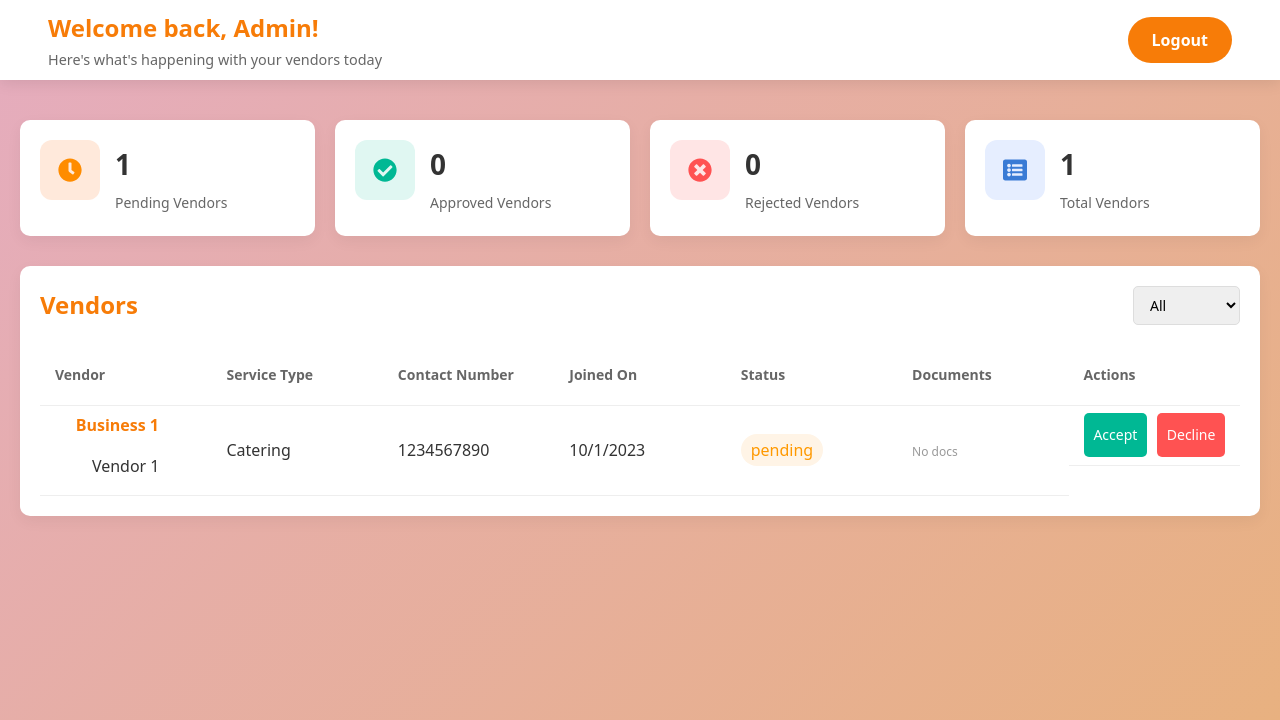
AdminDashboard › handles reject action
The width and height of the screenshot is (1280, 720).
expect the text "pending" is shown: met, box [741,434,823,466]
Click the button "Decline" at [1191, 435], box [1157,413,1225,457]
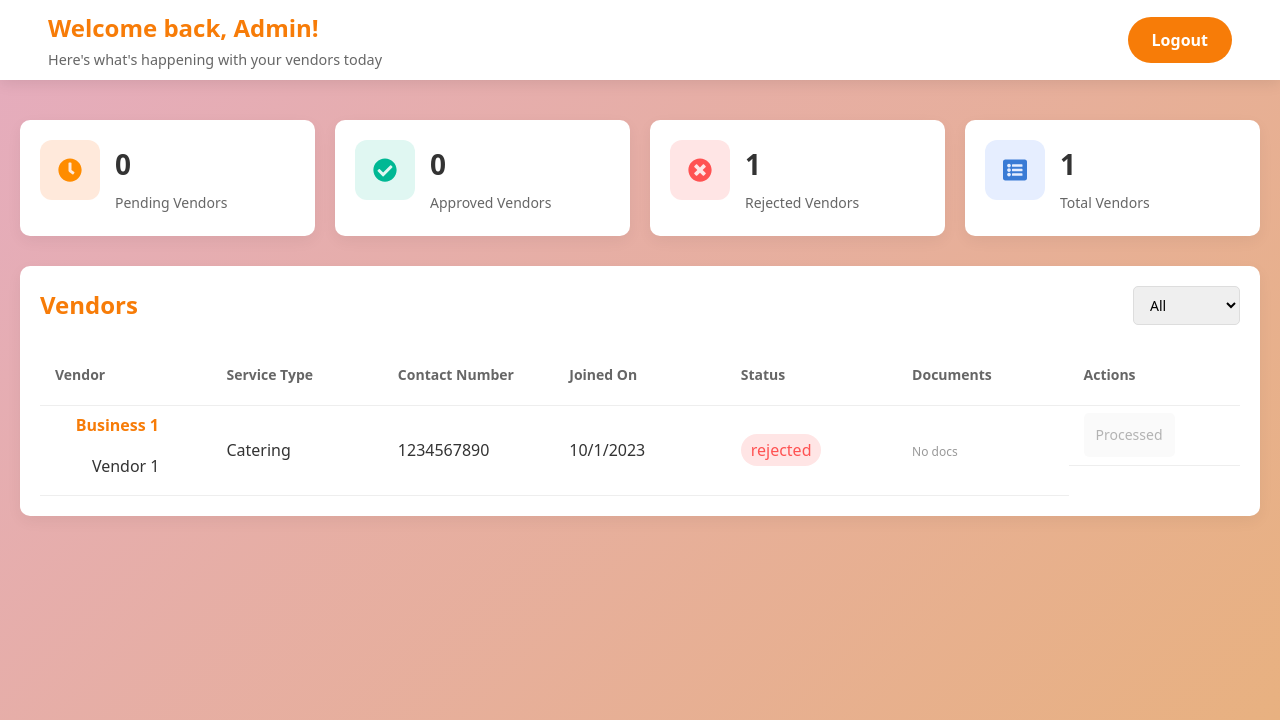
expect the button "Processed" is shown: met, box [1084,413,1174,457]
